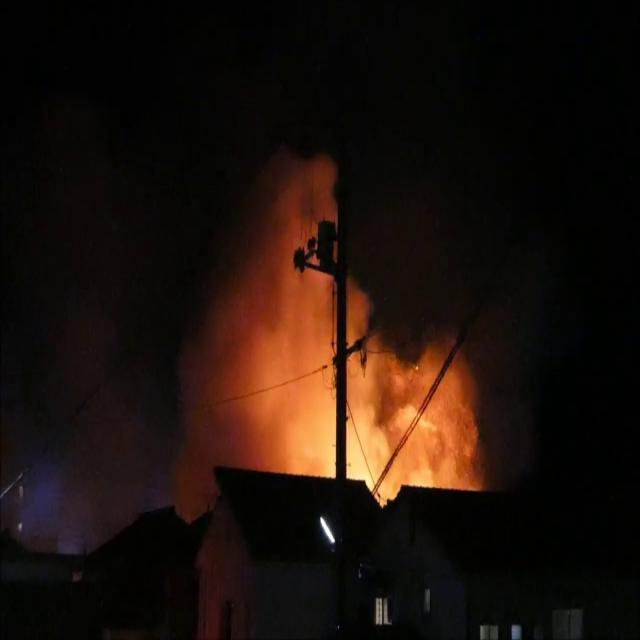Smoke: (167, 124, 537, 480)
